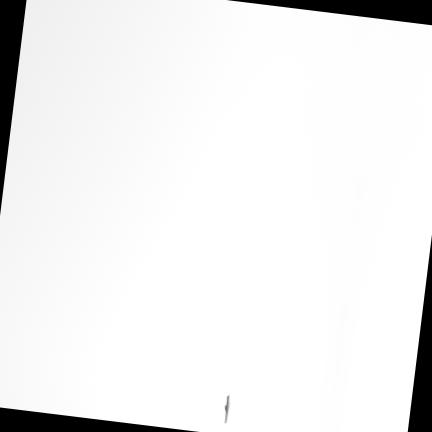Shahed: (223, 393, 232, 424)
